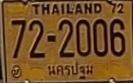0: (76, 19, 90, 56), (93, 18, 106, 56)
2: (58, 19, 73, 57), (28, 20, 43, 57)
6: (109, 18, 124, 56)
7: (11, 19, 25, 58)
NPT: (45, 60, 95, 80)
